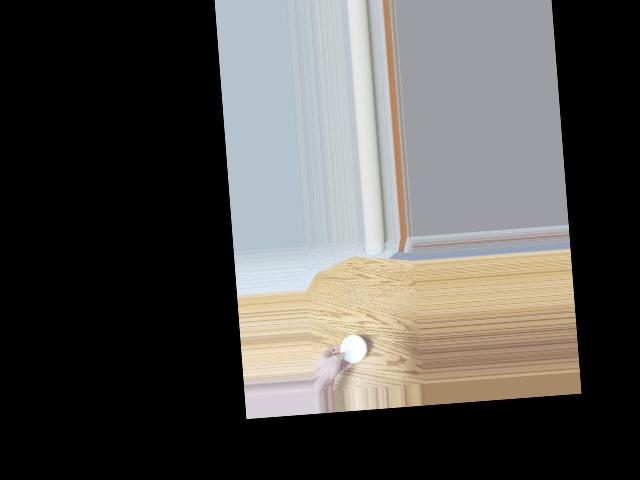cotage: (333, 332, 367, 366)
